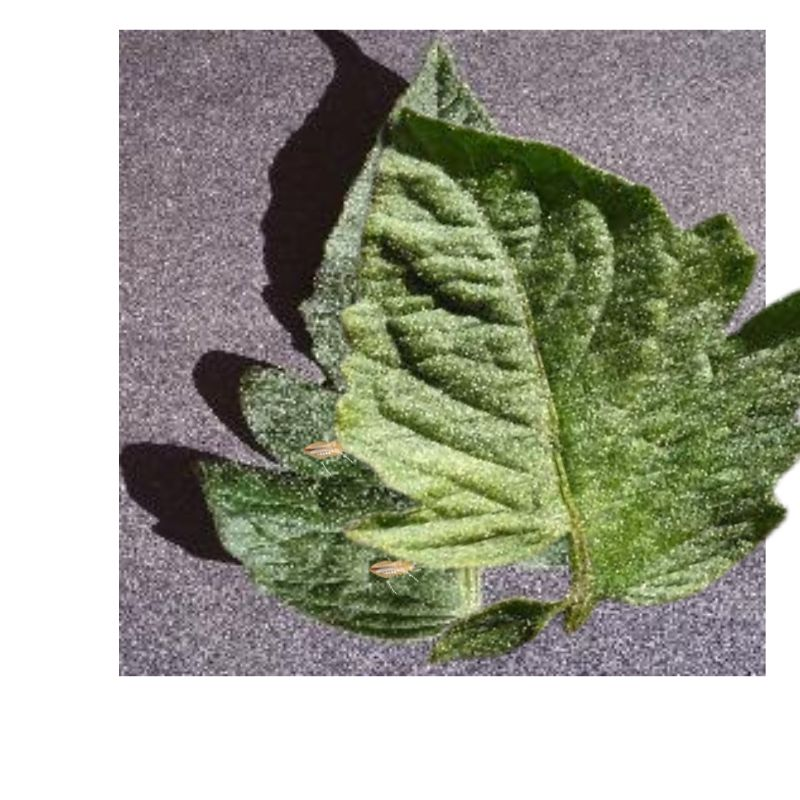thrips: (367, 558, 421, 585), (304, 438, 348, 463)
